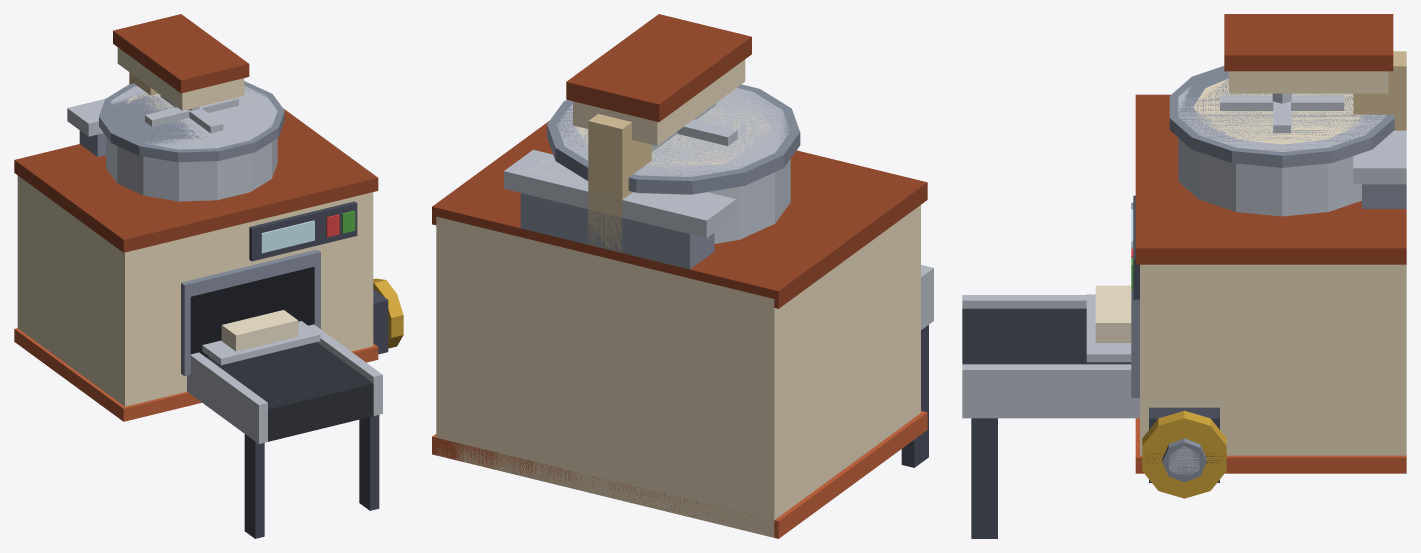
The model's file is mixer.glb.
3 views of the same model, side by side, from view 1: azimuth 30°, elevation 25°; view 2: azimuth 150°, elevation 25°; view 3: azimuth 270°, elevation 25° (orthographic). The views are drawn at different scales.
Parts seen in each view (by area): view 1: mixer, spin-up, spin-x; view 2: mixer, spin-up; view 3: mixer, spin-x, spin-up.
Boxes of the visible parts, x1,y1,x2,y2 form: mixer: [14, 14, 388, 538]; spin-up: [145, 95, 238, 133]; spin-x: [373, 278, 403, 348]; mixer: [432, 14, 933, 538]; spin-up: [651, 103, 737, 151]; mixer: [962, 14, 1406, 538]; spin-x: [1142, 410, 1226, 498]; spin-up: [1220, 93, 1344, 133].
Bounding box in the file's own units: 0.93 × 1.16 × 1.
Materials: 3 (3 with a texture image).
